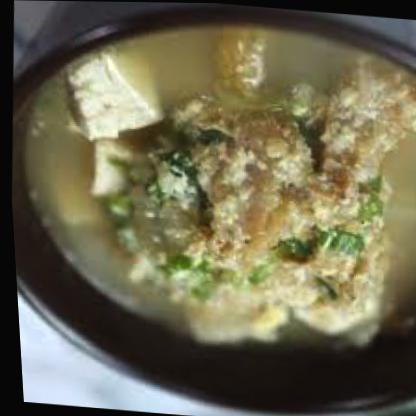dried pollack soup: (0, 14, 415, 395)
